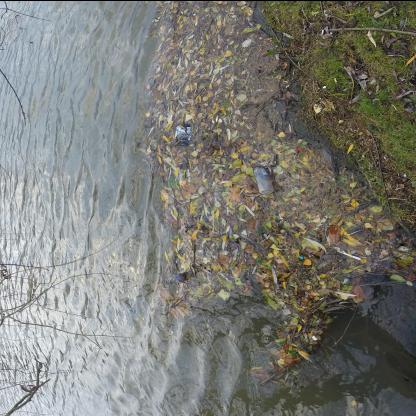diger: (174, 124, 192, 146)
plastik: (254, 165, 274, 194)
